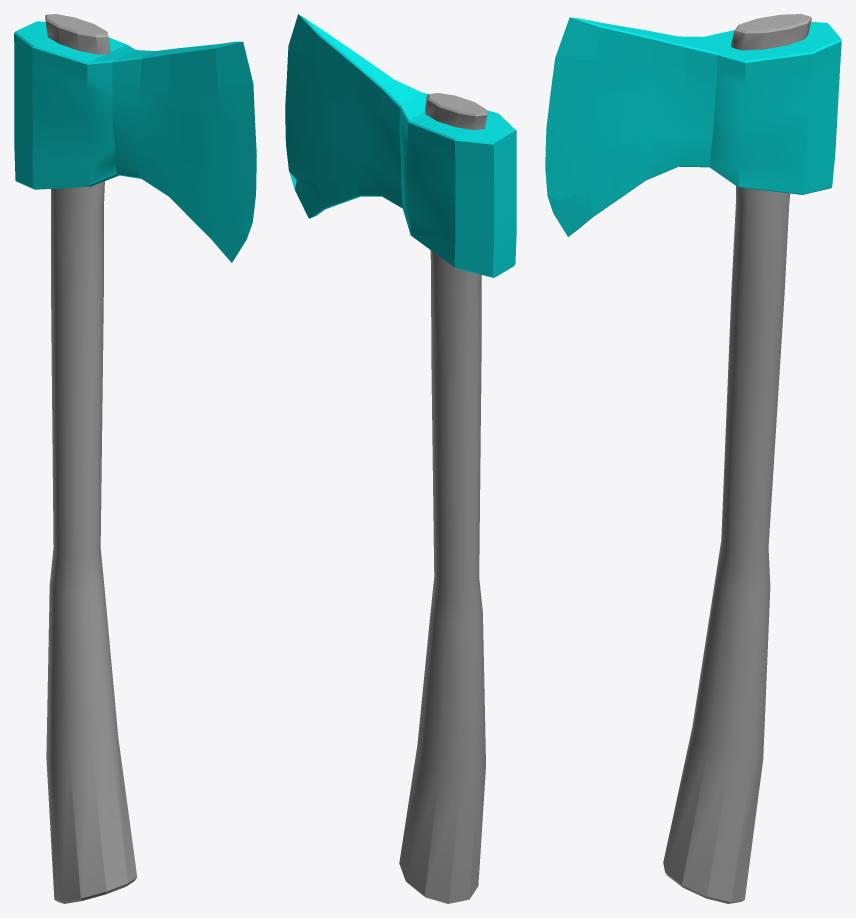
The model's file is Axe_2.fbx.
3 renders of one model, left to right at view 1: azimuth 30°, elevation 25°; view 2: azimuth 210°, elevation 25°; view 3: azimuth 270°, elevation 25°, orthographic. The views are drawn at different scales.
Visible parts, largest first — view 1: Axe2; view 2: Axe2; view 3: Axe2.
Boxes of the visible parts, x1,y1,x2,y2 form: Axe2: (14, 14, 256, 903); Axe2: (285, 14, 516, 903); Axe2: (545, 14, 841, 903).
Size of the model in its own units: 4.3 by 30.01 by 8.73.
